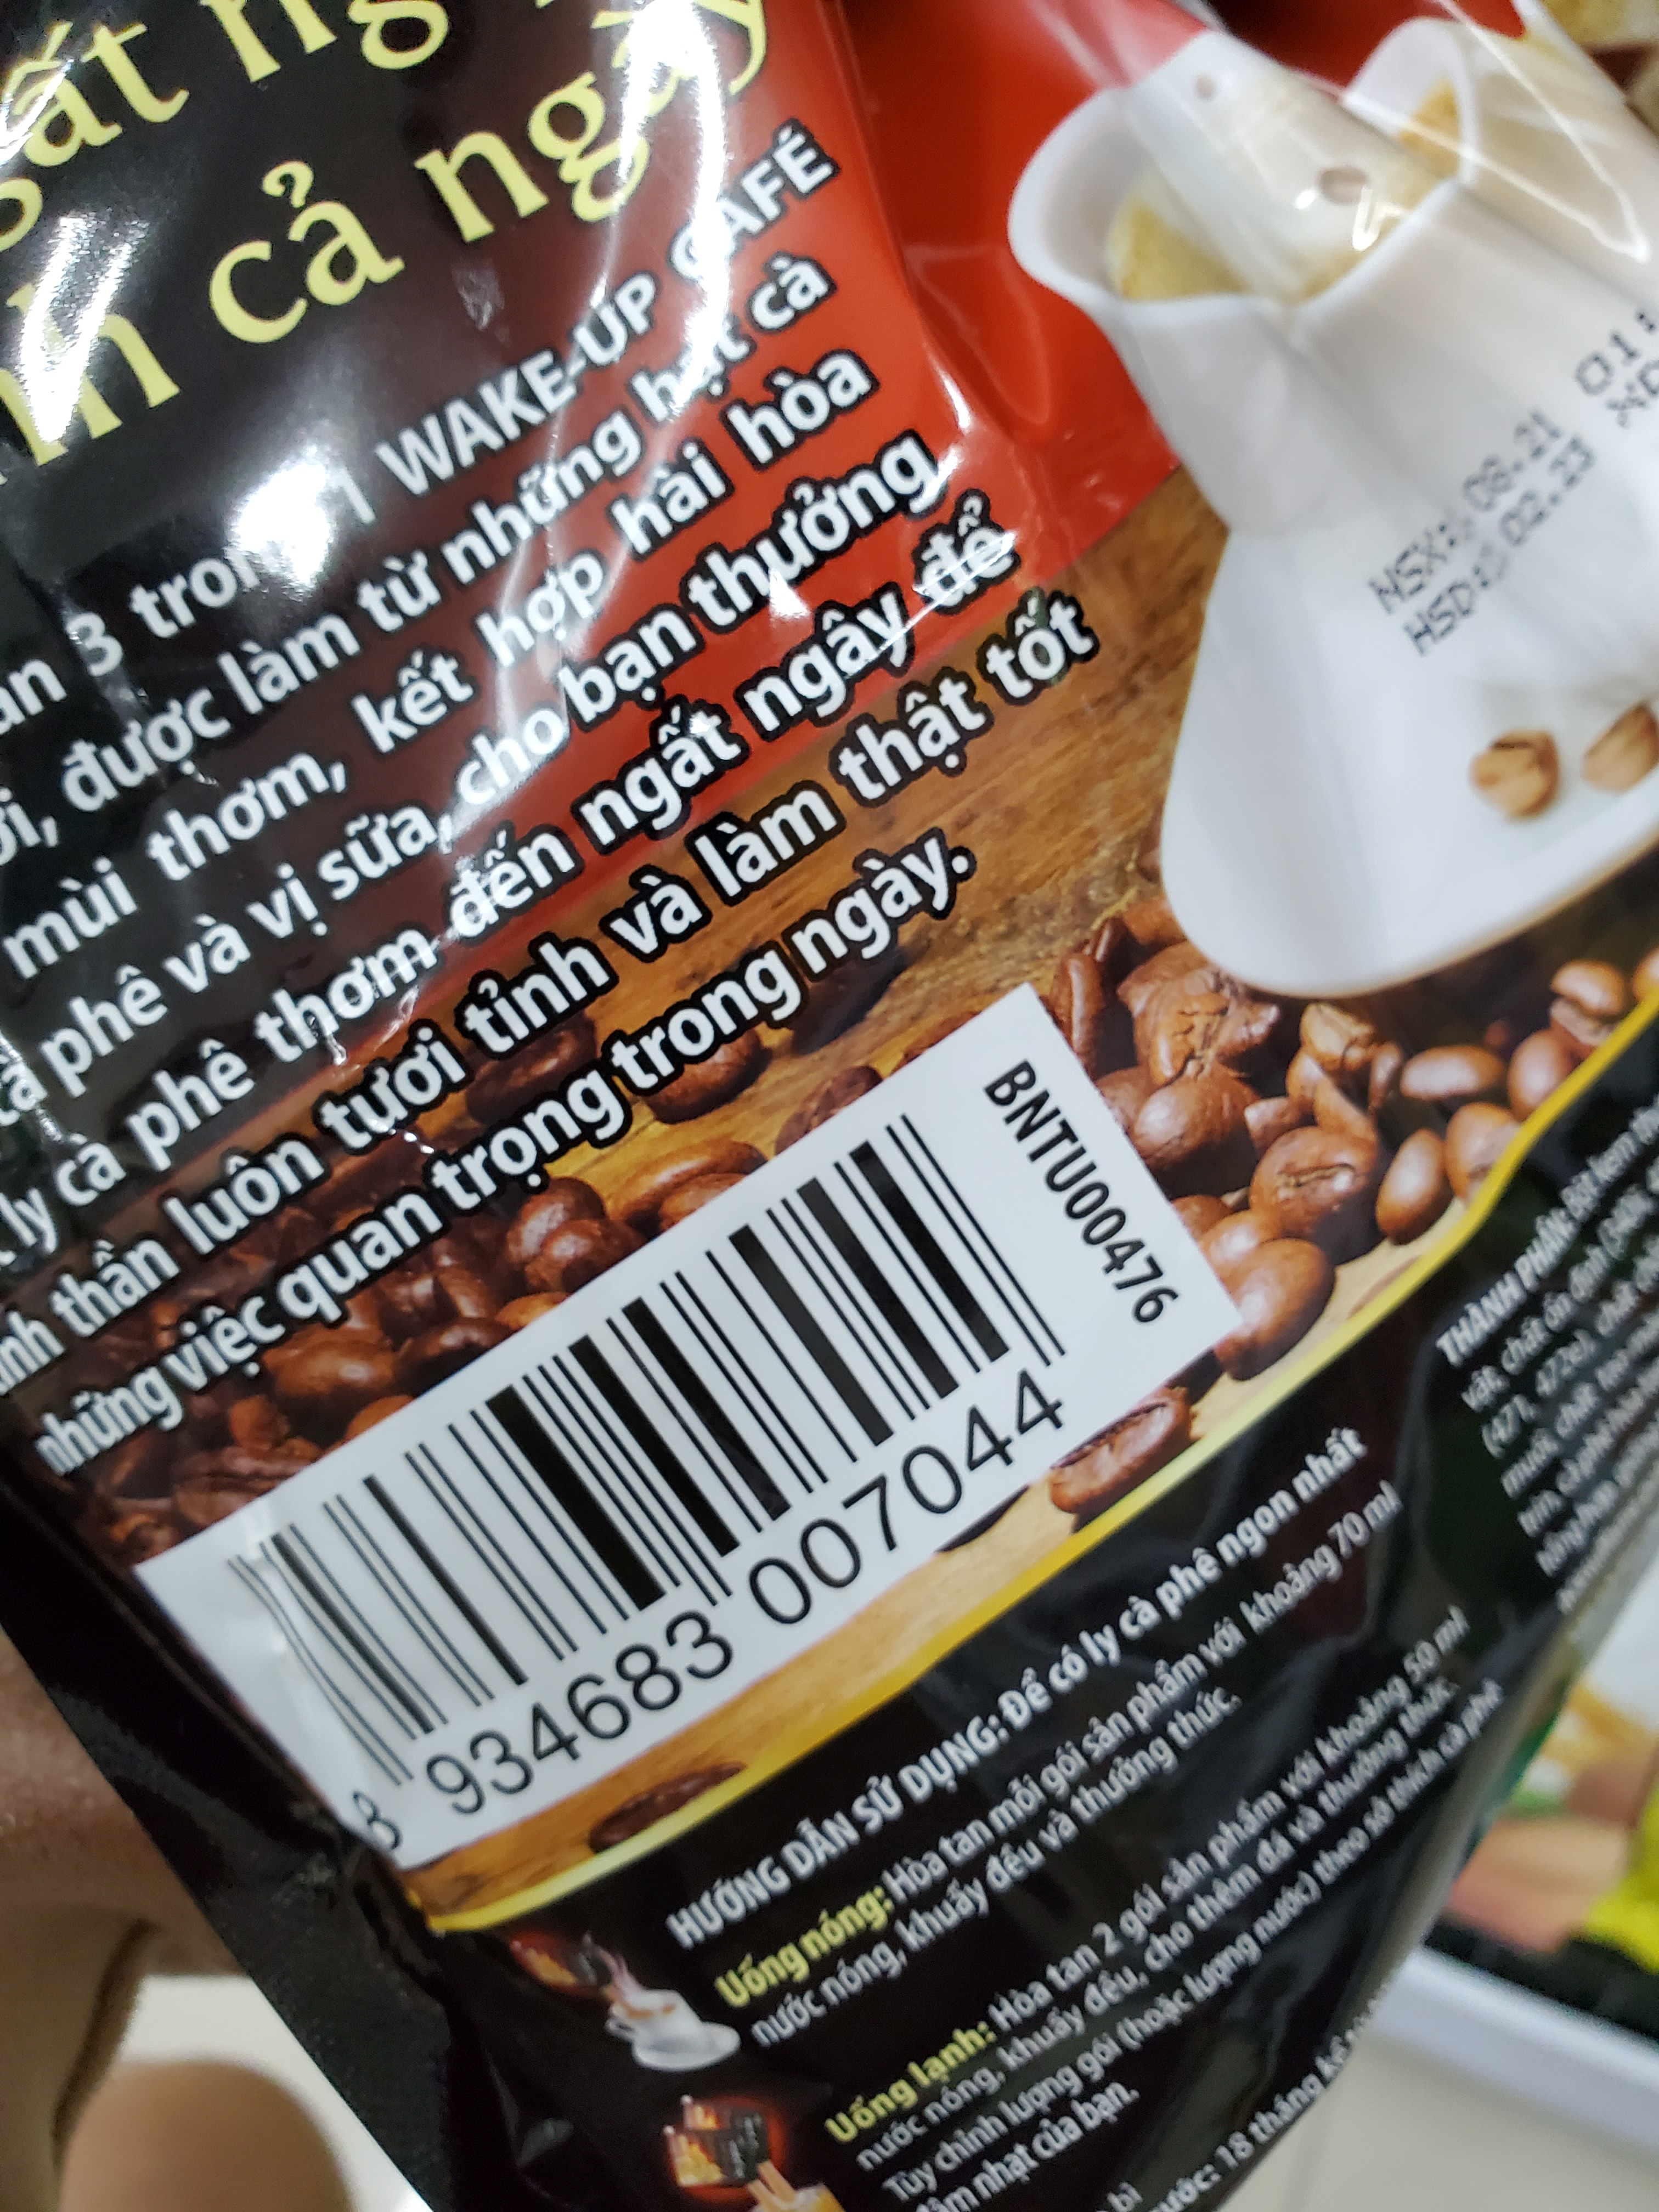barcode: (117, 1101, 1103, 1904)
